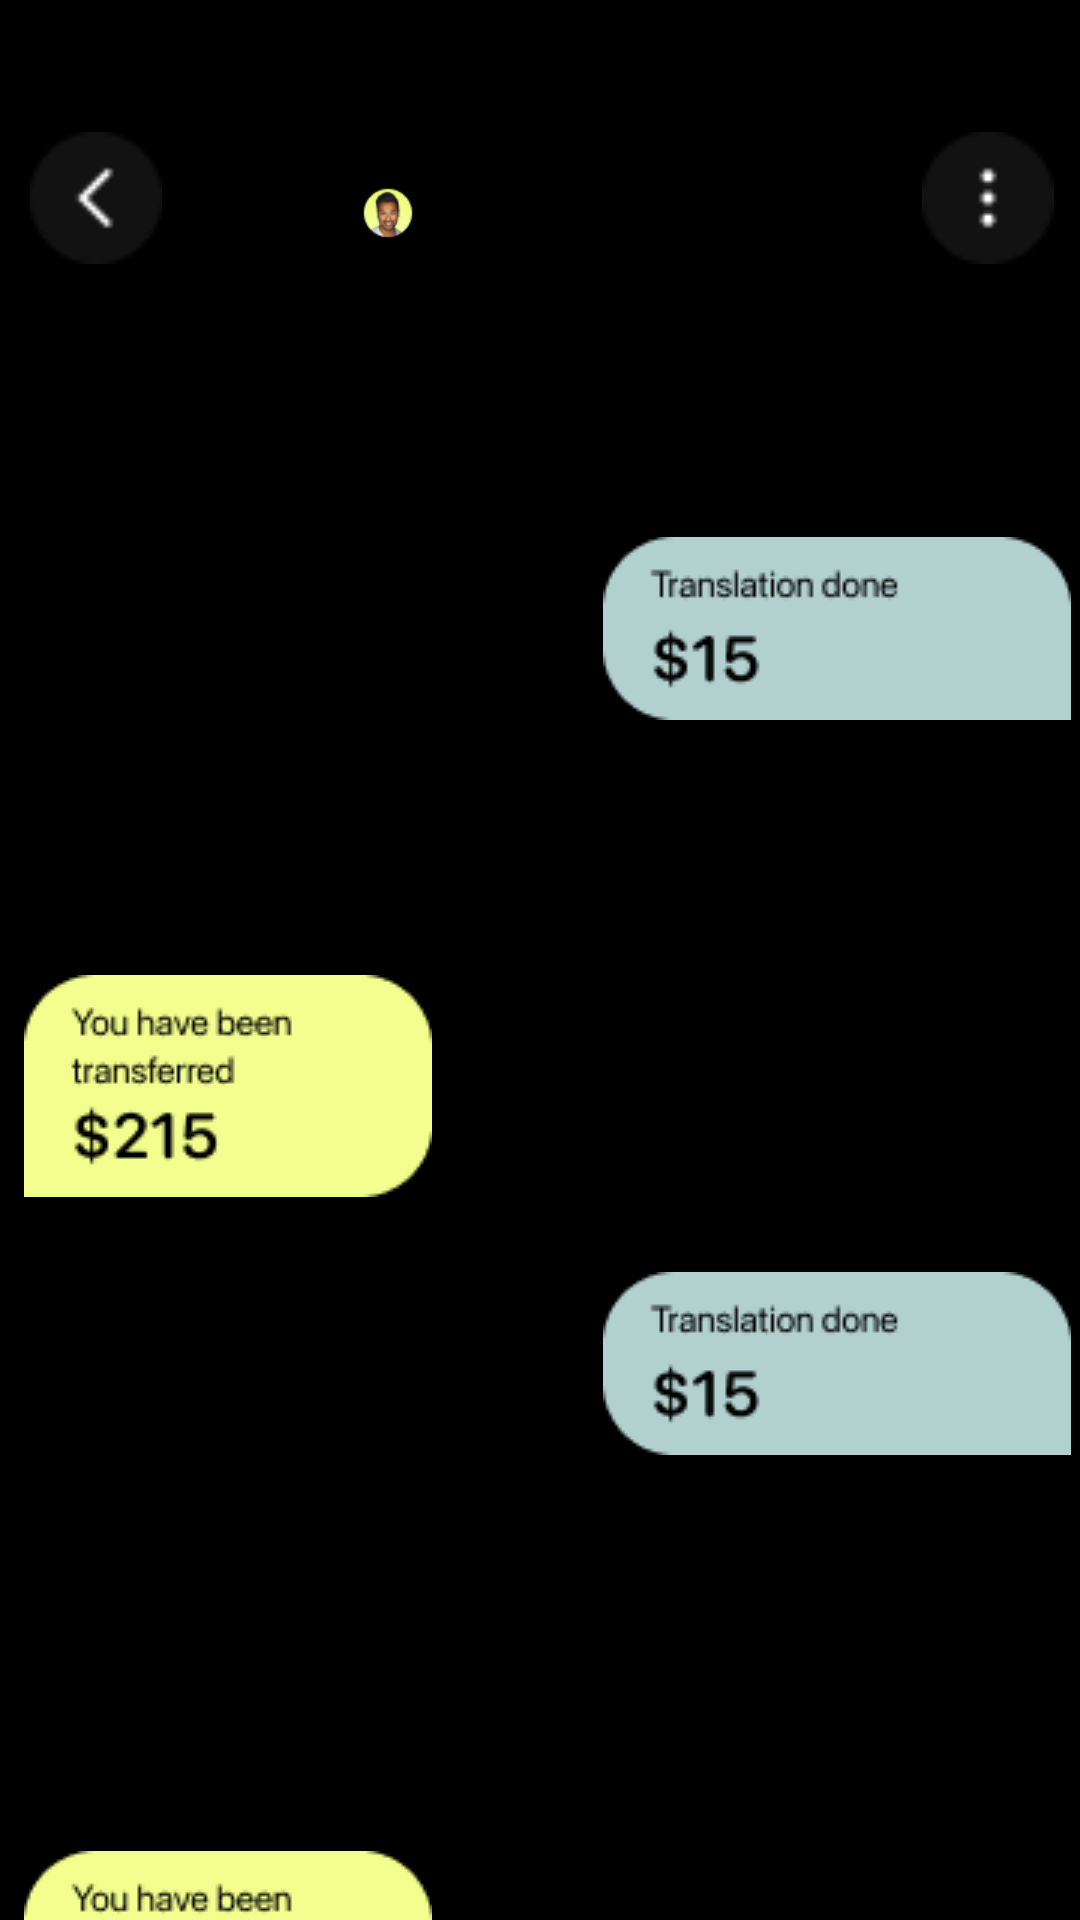

Screen size 1080 x 1920. Icon name, then its center in pixels as (x,y):
bbback: (96,198)
more: (988,198)
